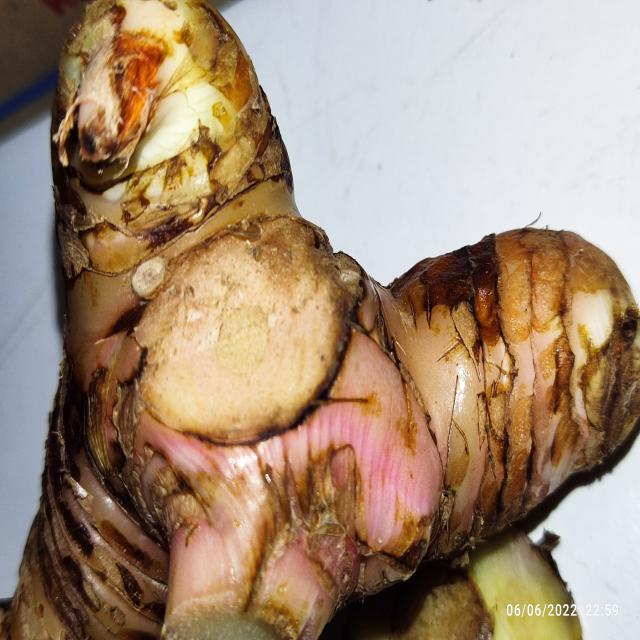ginger: (31, 9, 640, 632)
